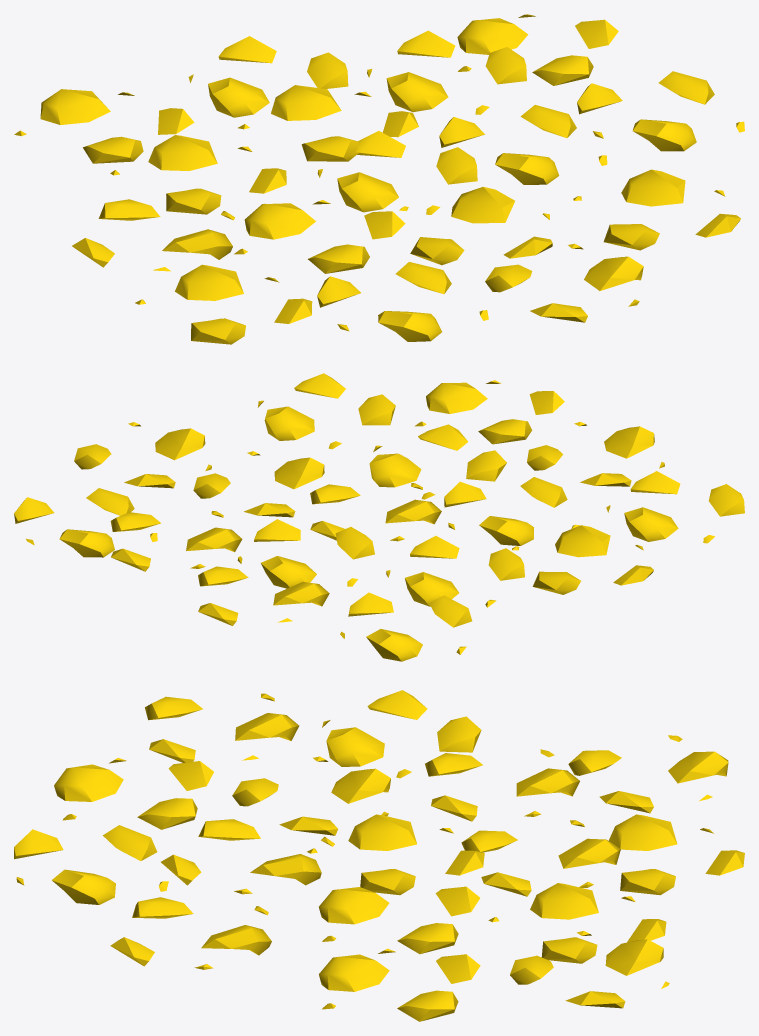
The model's file is GoldDeposit.fbx.
3 views of the same model, one above another, from view 1: azimuth 30°, elevation 25°; view 2: azimuth 150°, elevation 25°; view 3: azimuth 270°, elevation 25° (orthographic). The views are drawn at different scales.
Visible parts, largest first — view 1: GoldDeposit; view 2: GoldDeposit; view 3: GoldDeposit.
Boxes of the visible parts, x1,y1,x2,y2 form: GoldDeposit: (14,14,744,344); GoldDeposit: (14,373,744,661); GoldDeposit: (14,690,744,1021).
Bounding box in the file's own units: 168 × 5.76 × 161.
